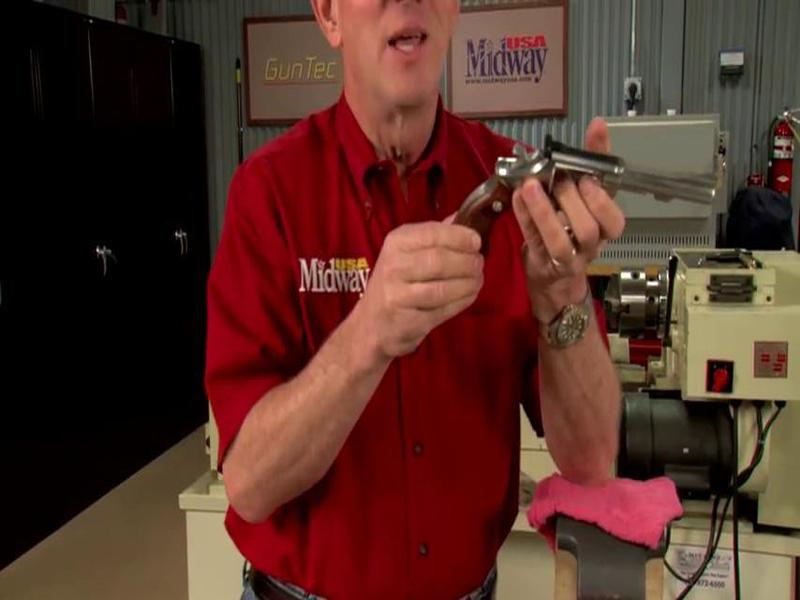Revolver: (415, 109, 743, 279)
